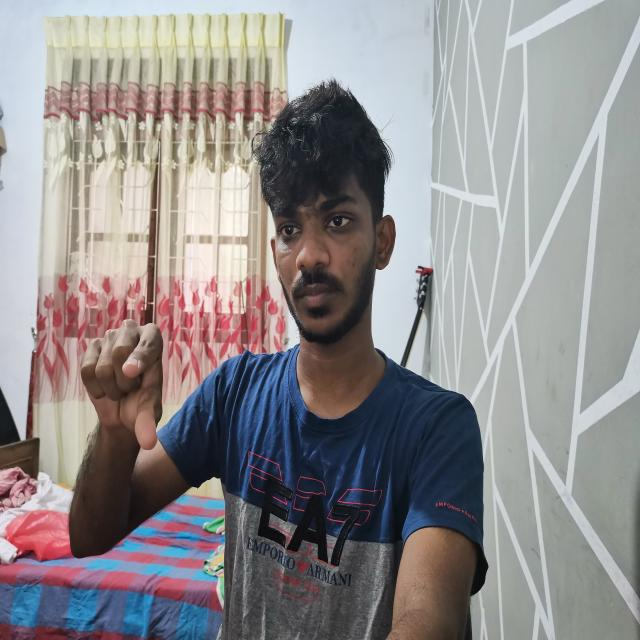No: (81, 323, 181, 462)
